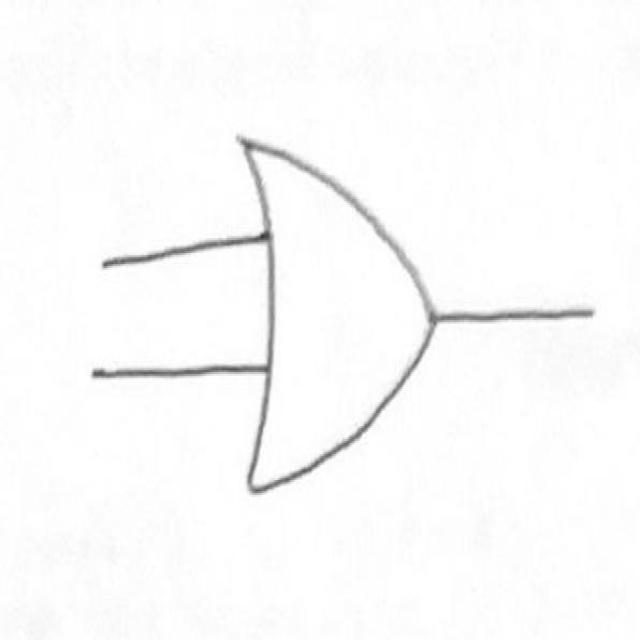OR: (224, 90, 444, 530)
